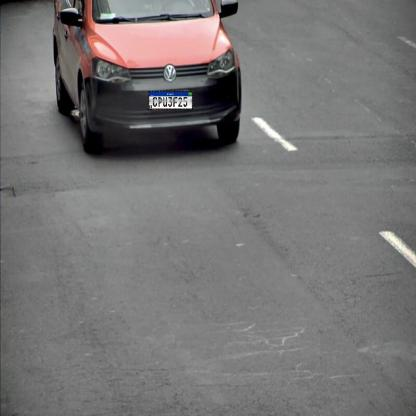PlacaM: (148, 91, 193, 109)
